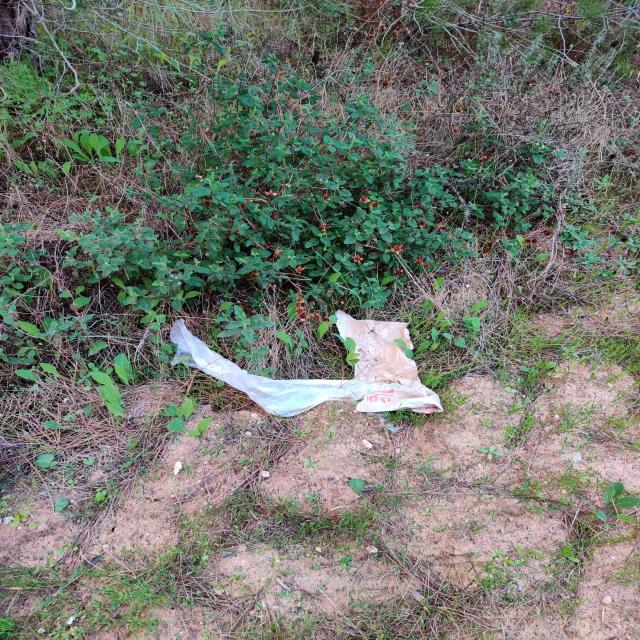litter: (157, 308, 457, 430)
